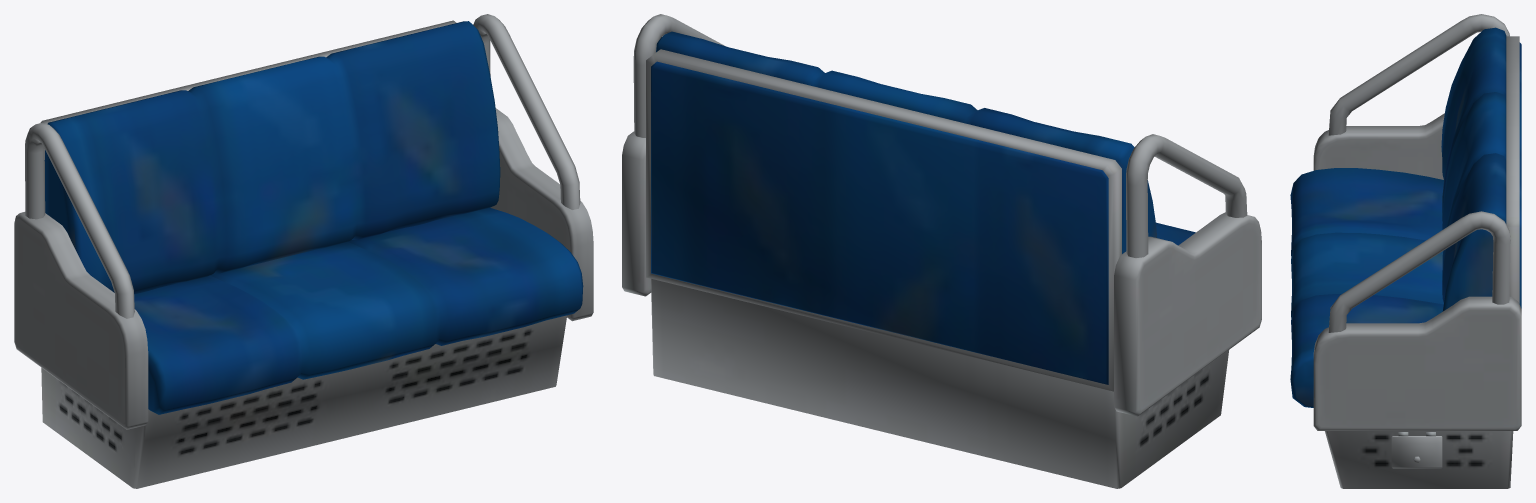
3 views of the same model, side by side, from view 1: azimuth 30°, elevation 25°; view 2: azimuth 150°, elevation 25°; view 3: azimuth 270°, elevation 25° (orthographic). The views are drawn at different scales.
Bounding box in the file's own units: 19.94 × 12.62 × 9.41.
2 materials, 2 textured.
